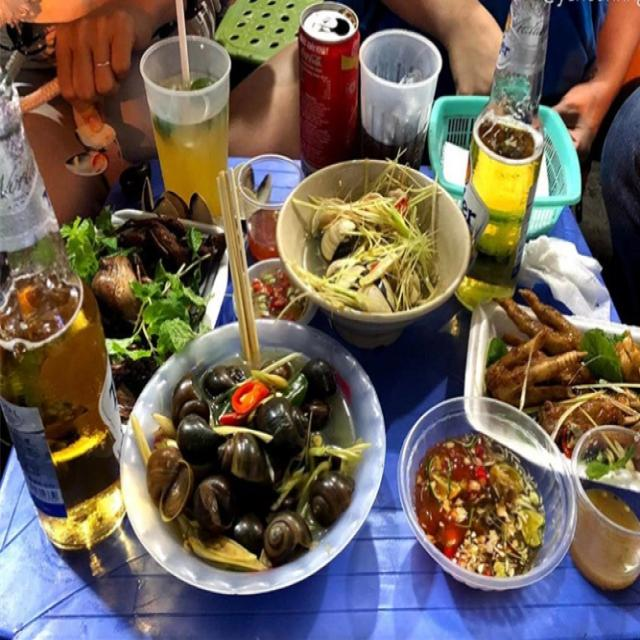bia: (0, 56, 127, 558), (447, 5, 562, 320)
chan ga nuong: (468, 293, 640, 467)
ngheu hap sa: (277, 155, 465, 329)
oc buu hap: (134, 284, 377, 603)
